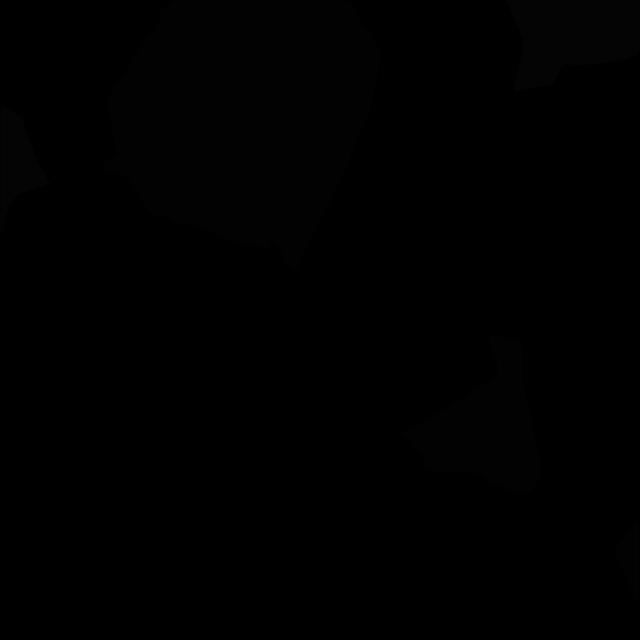cardboard: (104, 0, 380, 271), (403, 336, 542, 495), (613, 521, 639, 607)
soft_plastic: (506, 0, 640, 92), (0, 105, 50, 234)
